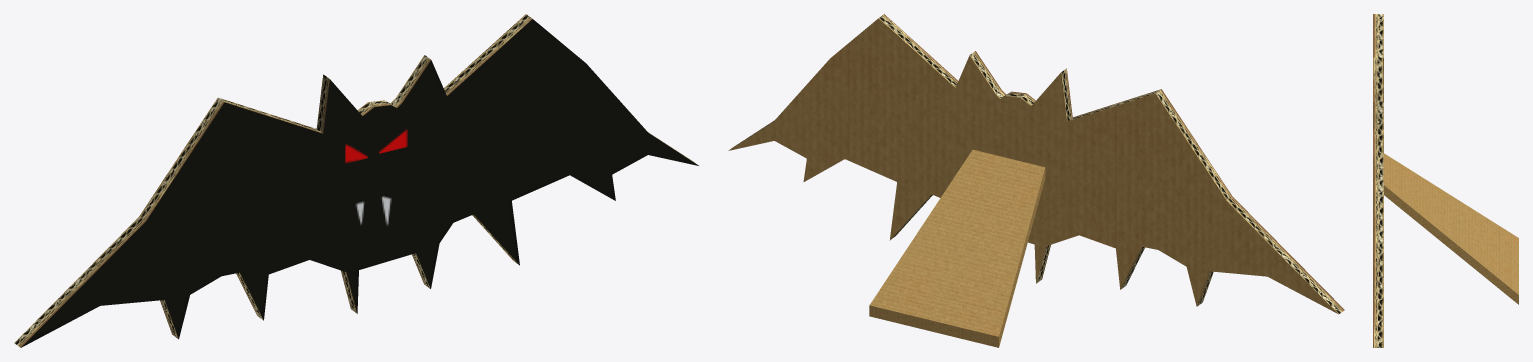
Rendered from cardboard_bat_1_s.fbx.
The picture shows the model from 3 angles, left to right: view 1: azimuth 30°, elevation 25°; view 2: azimuth 150°, elevation 25°; view 3: azimuth 270°, elevation 25°; orthographic projection. The views are drawn at different scales.
Visible parts, largest first — view 1: cardboard_bat_1_s; view 2: cardboard_bat_1_s; view 3: cardboard_bat_1_s.
Boxes of the visible parts, x1,y1,x2,y2 form: cardboard_bat_1_s: (14, 14, 698, 347); cardboard_bat_1_s: (728, 14, 1344, 347); cardboard_bat_1_s: (1373, 14, 1518, 347).
Size of the model in its own units: 2.29 by 0.8137 by 0.5252.
